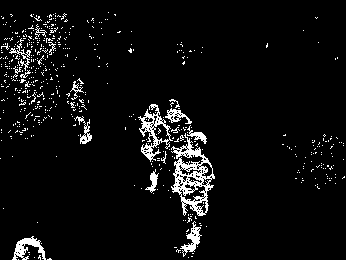person: (171, 130, 215, 254), (137, 101, 169, 191), (164, 97, 192, 162), (67, 78, 90, 145)
